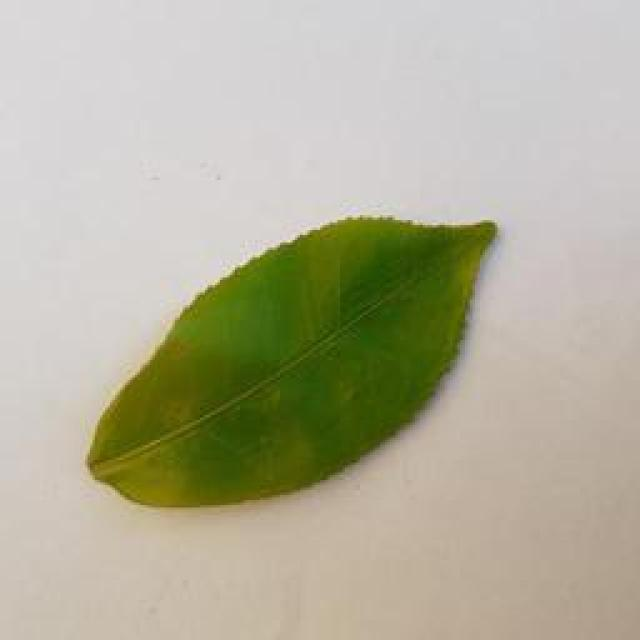Healthy: (64, 201, 525, 520)
